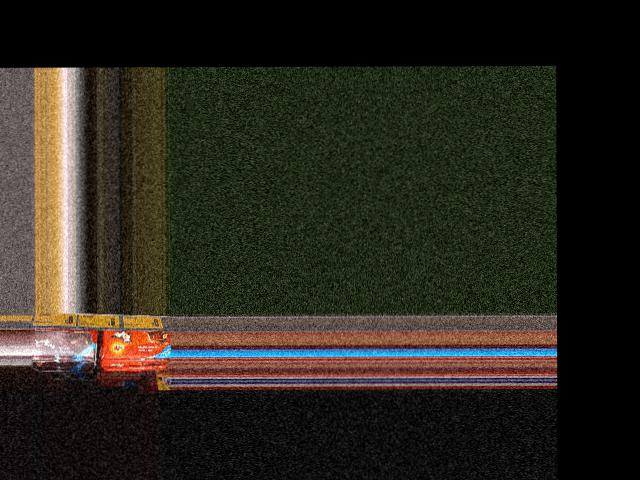chocolate: (30, 322, 91, 360)
